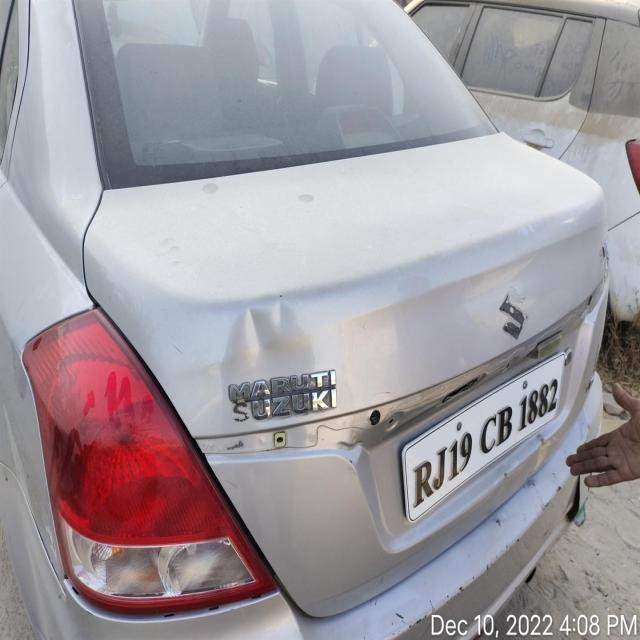damage: (223, 297, 319, 392)
